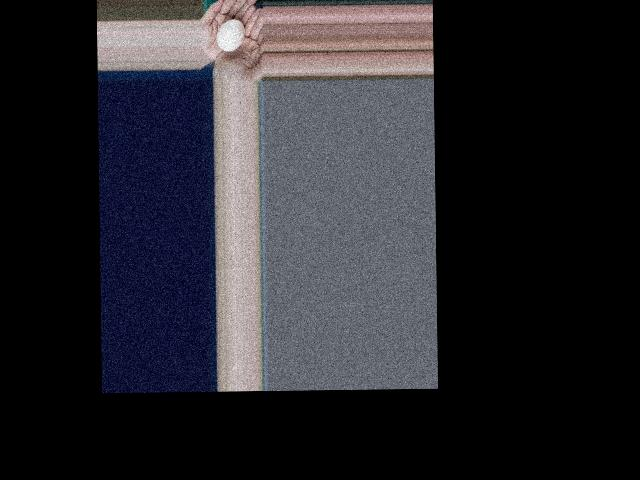egg: (217, 18, 244, 50)
